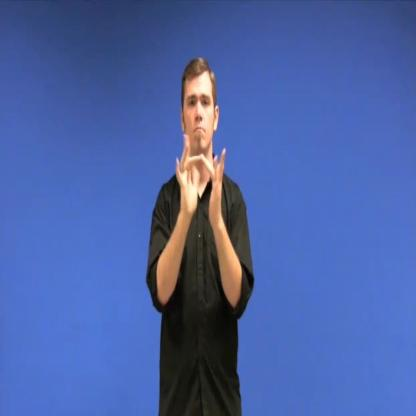Internet: (173, 127, 232, 242)
